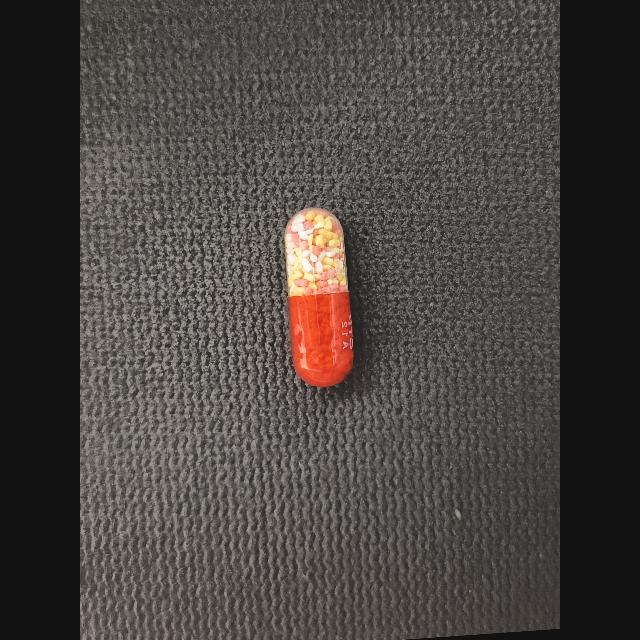Intact Capsule: (284, 207, 354, 387)
